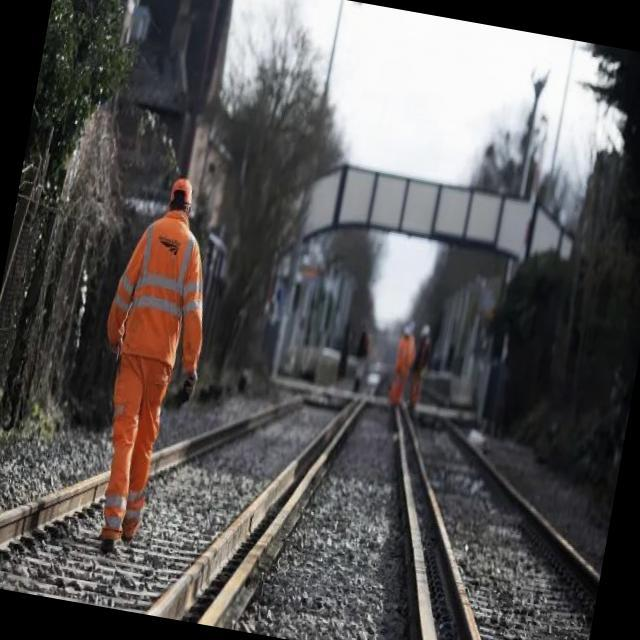danger: (83, 162, 216, 555), (378, 312, 445, 417)
rail: (0, 373, 379, 633), (393, 372, 609, 636)
